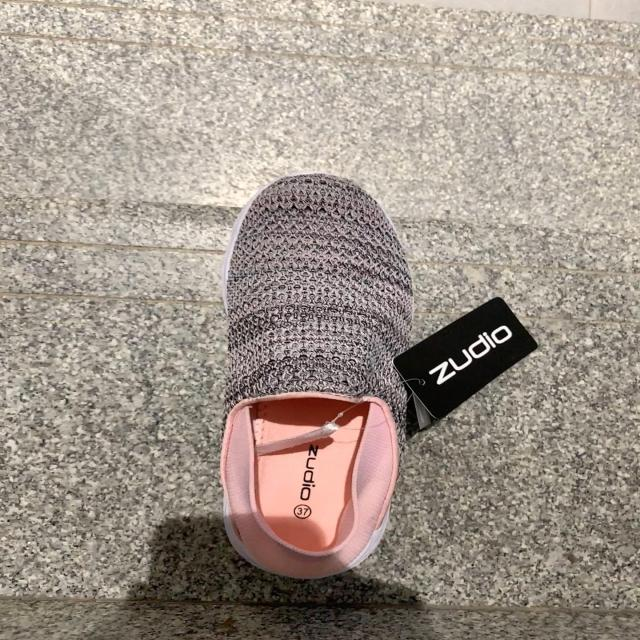shoe: (221, 172, 414, 567)
